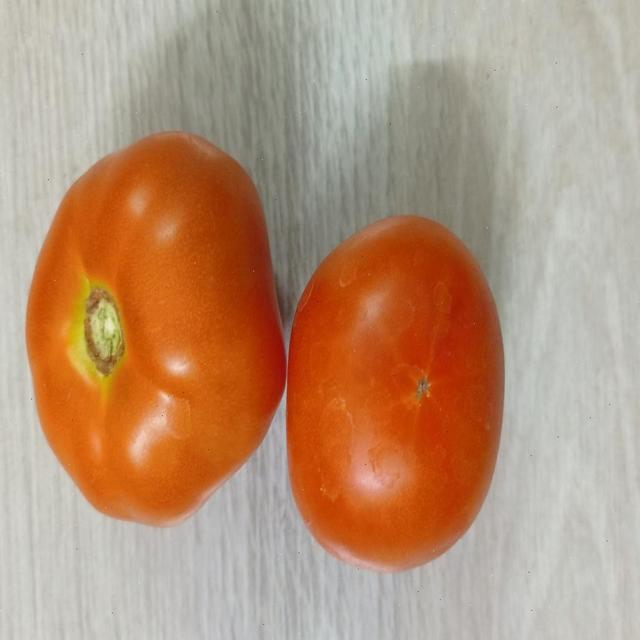Healthy Fruit: (103, 220, 266, 274)
